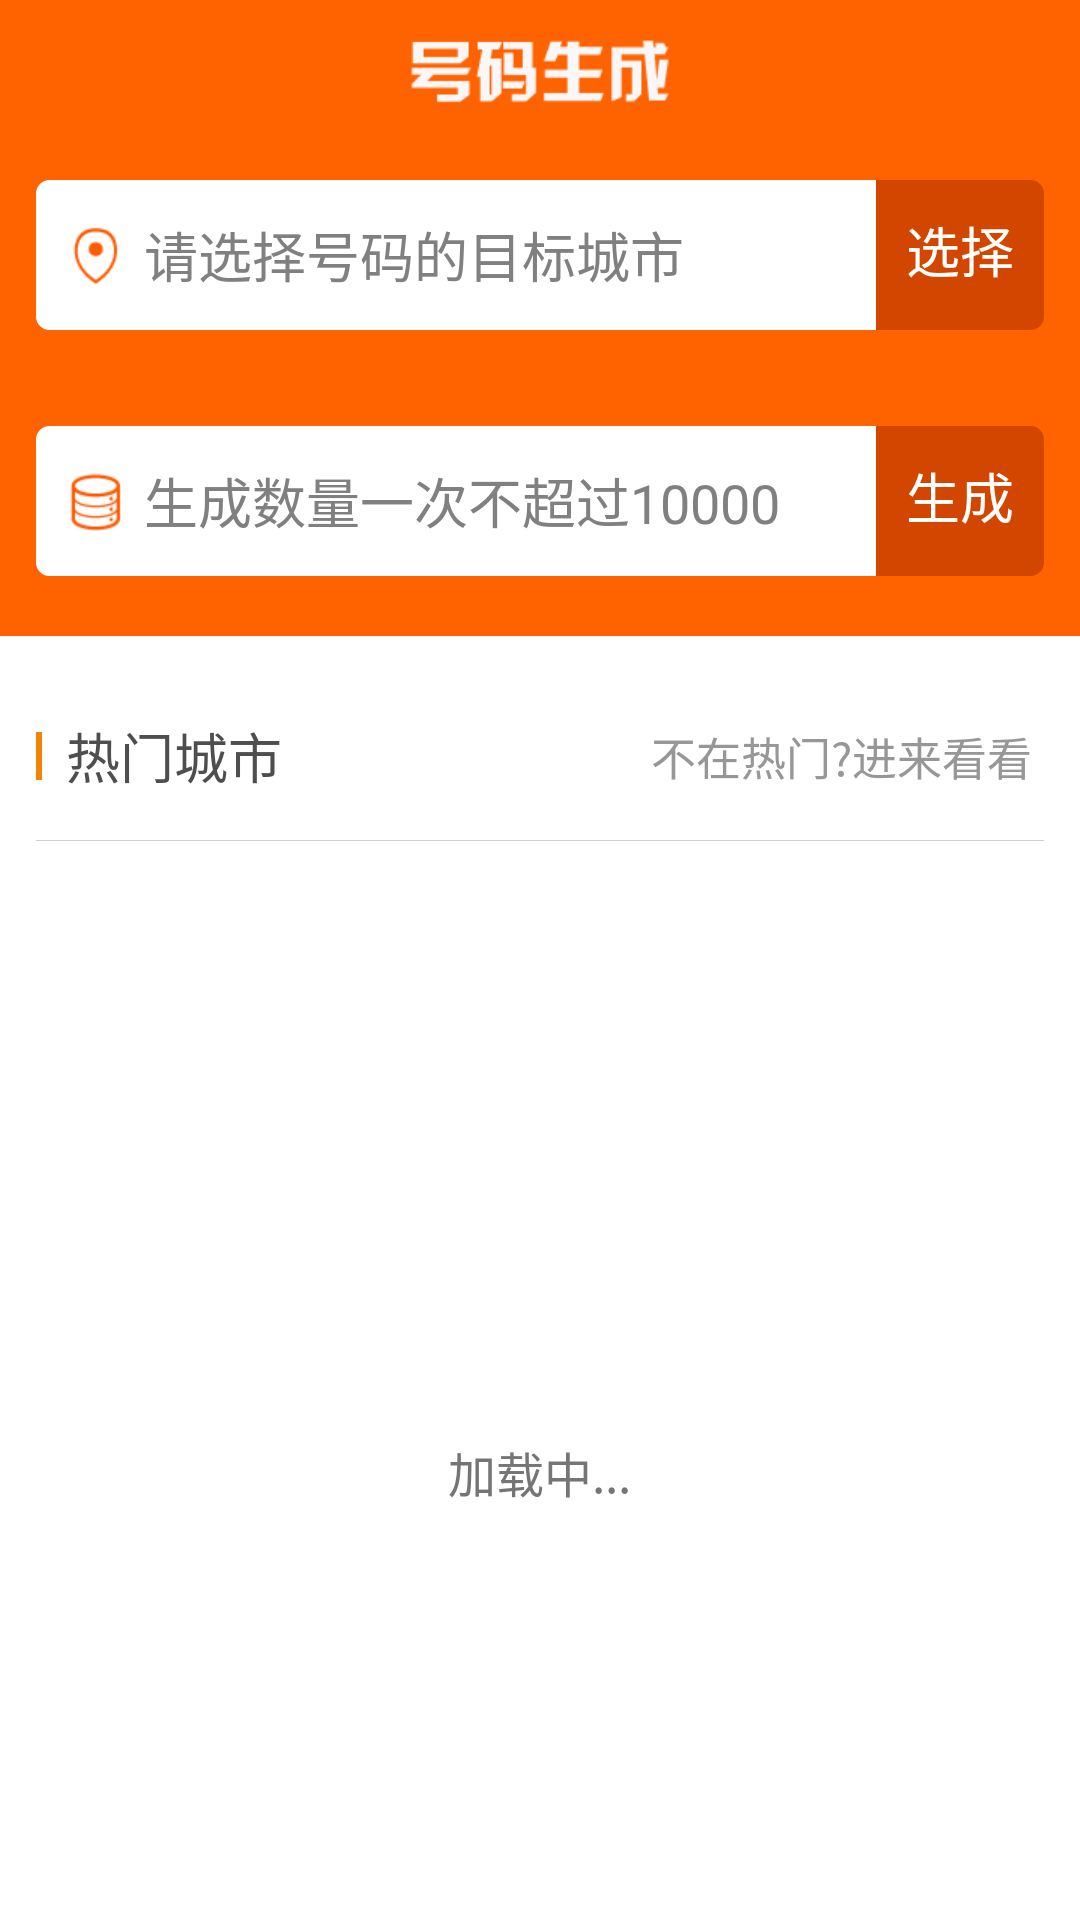

Icons on this 1080*1920 Android screen, each with the point to tap as [x,y]:
chose city: [95,255]
